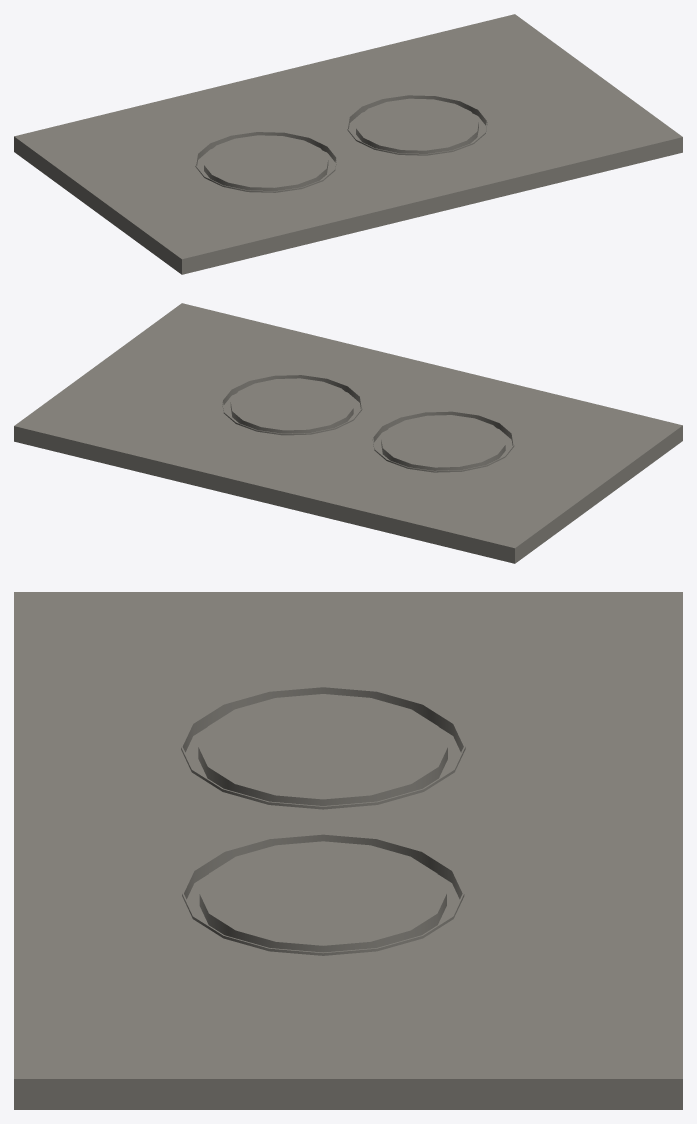
The model's file is BASE gadung bake.fbx.
3 views of the same model, one above another, from view 1: azimuth 30°, elevation 25°; view 2: azimuth 150°, elevation 25°; view 3: azimuth 270°, elevation 25° (orthographic). The views are drawn at different scales.
Parts seen in each view (by area): view 1: TEMBOK DEPAN.003; view 2: TEMBOK DEPAN.003; view 3: TEMBOK DEPAN.003.
Boxes of the visible parts, x1,y1,x2,y2 form: TEMBOK DEPAN.003: [14, 14, 682, 274]; TEMBOK DEPAN.003: [14, 303, 682, 563]; TEMBOK DEPAN.003: [14, 592, 682, 1109].
Size of the model in its own units: 4137 by 134 by 2402.
1 material, 1 textured.
